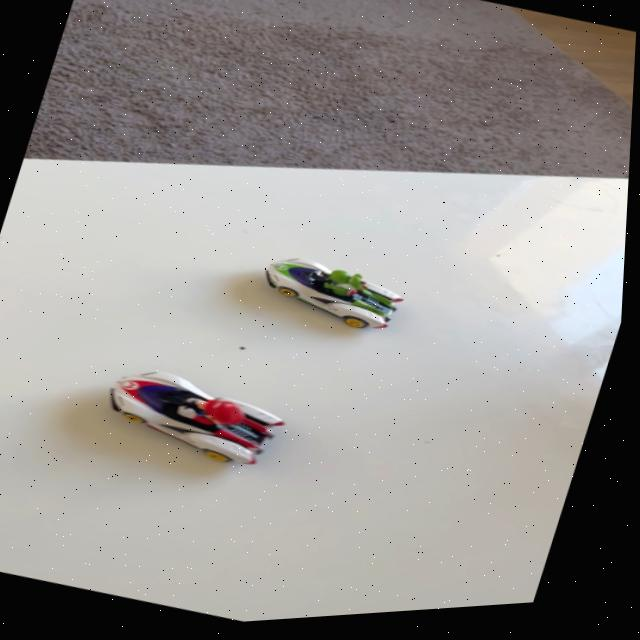mario: (86, 343, 317, 494)
yoshi: (248, 239, 431, 349)
